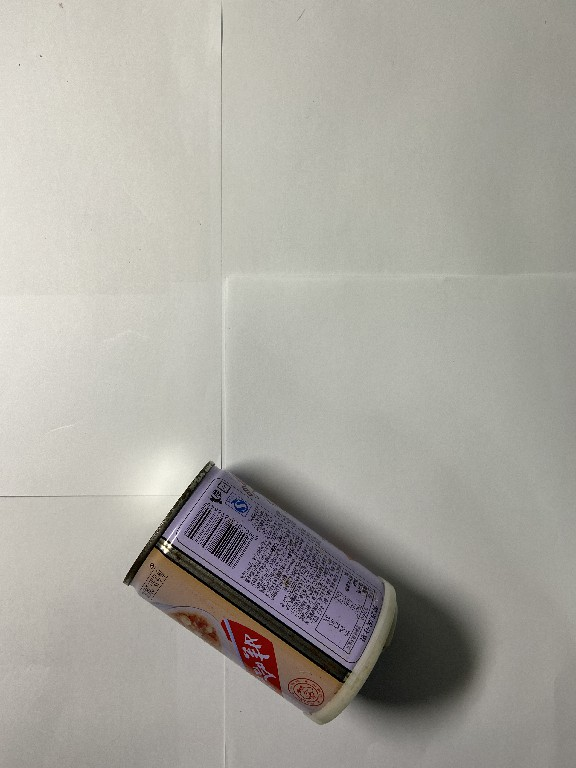can: (119, 459, 404, 731)
